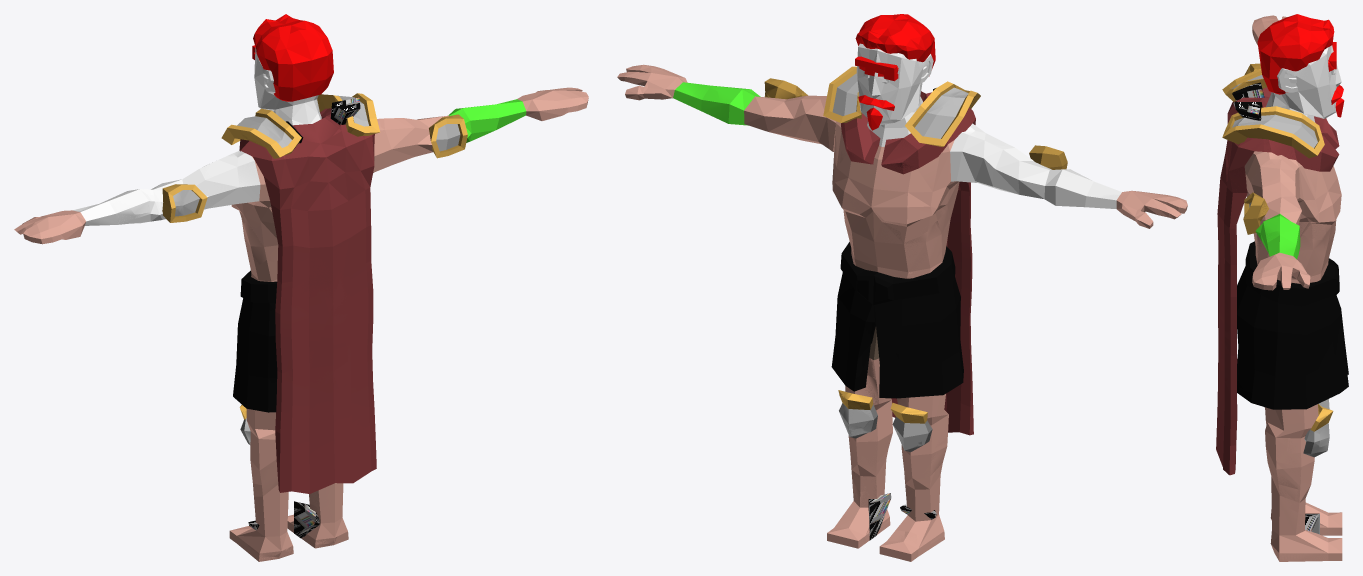
File: 10Fractions.fbx
3 views of the same model, side by side, from view 1: azimuth 30°, elevation 25°; view 2: azimuth 150°, elevation 25°; view 3: azimuth 270°, elevation 25° (orthographic).
Parts seen in each view (by area): view 1: Cape_1, Cape_1_cell.007, Cape_1_cell.004, Belt_1, Hair_M_1, Cape_1_cell.002, Arm_M_R, Calf_M_L, Hair_M_1_cell.006, Cape_1_cell.009, Arm_M_L, Cape_1_cell.001 (+18 smaller); view 2: Belt_1, Torso_M_1, Cape_1, Arm_M_L, Head_M_1, Calf_M_L, Calf_M_R, Hair_M_1, Pauldron_L, Forearm_M_L, Foot_M_L, Head_M_1_cell (+17 smaller); view 3: Belt_1, Cape_1, Belt_1_cell.007, Hair_M_1, Pauldron_R, Torso_M_1, Calf_M_R, Arm_M_R, Head_M_1, Foot_M_R, Head_M_1_cell, Belt_1_cell.010 (+50 smaller).
Boxes of the visible parts, x1,y1,x2,y2 form: Cape_1: [239, 108, 376, 491]; Cape_1_cell.007: [275, 223, 349, 373]; Cape_1_cell.004: [276, 380, 371, 493]; Belt_1: [233, 270, 277, 407]; Hair_M_1: [254, 14, 333, 101]; Cape_1_cell.002: [277, 336, 372, 406]; Arm_M_R: [374, 117, 441, 172]; Calf_M_L: [250, 431, 288, 536]; Hair_M_1_cell.006: [256, 26, 319, 71]; Cape_1_cell.009: [304, 159, 372, 239]; Arm_M_L: [162, 151, 259, 219]; Cape_1_cell.001: [317, 226, 373, 347]; Belt_1: [833, 246, 963, 398]; Torso_M_1: [833, 121, 958, 278]; Cape_1: [841, 92, 975, 435]; Arm_M_L: [950, 123, 1046, 199]; Head_M_1: [857, 47, 931, 146]; Calf_M_L: [901, 414, 948, 521]; Calf_M_R: [851, 408, 892, 507]; Hair_M_1: [855, 15, 935, 76]; Pauldron_L: [905, 84, 980, 146]; Forearm_M_L: [1044, 173, 1121, 208]; Foot_M_L: [879, 514, 944, 561]; Head_M_1_cell: [856, 43, 933, 145]; Belt_1: [1237, 241, 1348, 409]; Cape_1: [1218, 102, 1339, 472]; Belt_1_cell.007: [1243, 264, 1333, 374]; Hair_M_1: [1257, 16, 1334, 92]; Pauldron_R: [1222, 107, 1324, 158]; Torso_M_1: [1244, 151, 1341, 283]; Calf_M_R: [1265, 431, 1313, 535]; Arm_M_R: [1247, 152, 1301, 224]; Head_M_1: [1275, 55, 1341, 122]; Foot_M_R: [1270, 530, 1342, 561]; Head_M_1_cell: [1266, 45, 1341, 117]; Belt_1_cell.010: [1317, 328, 1347, 403].
Bounding box in the file's own units: 41803 × 36807 × 8536.
